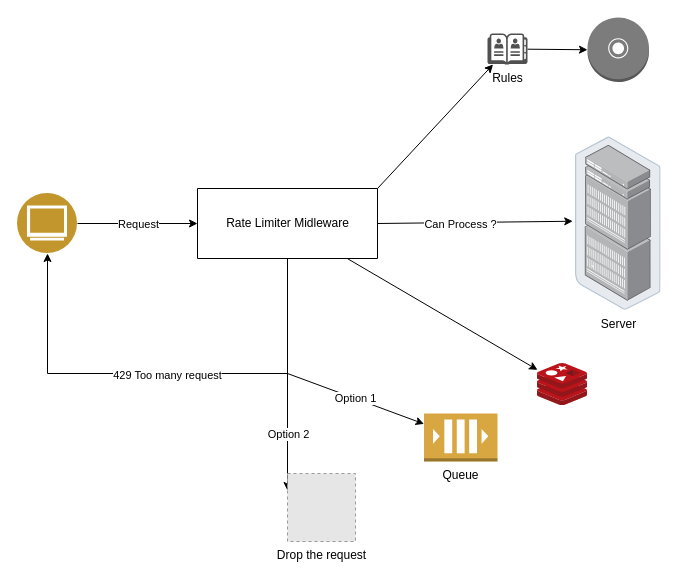
Image size: 678x580. Some labels were removed from this diagram. Grey dashed boxes stand in for pictures. Here are the shapes that lost their labels. From the top down, the centre of each, then its label:
pixel 617 49: File System
pixel 47 223: Client
pixel 562 384: Redis
